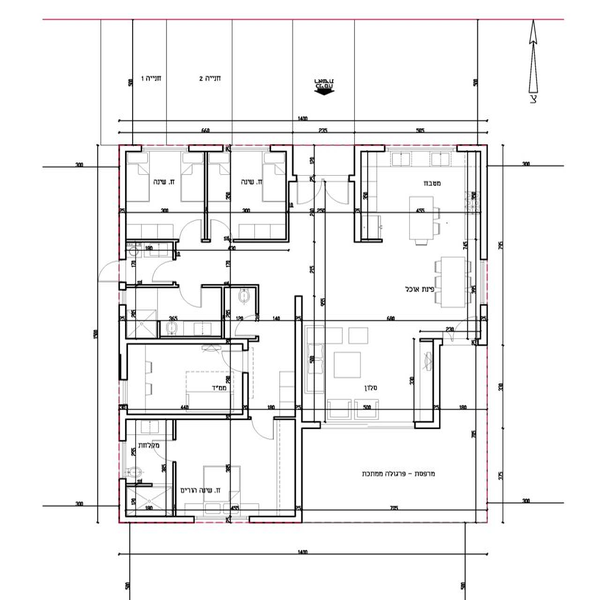door: (293, 174, 353, 214), (249, 414, 286, 443), (177, 280, 207, 307), (152, 435, 178, 464), (178, 216, 202, 246), (151, 259, 178, 285), (208, 215, 232, 244), (222, 352, 253, 372), (233, 310, 257, 334)
room: (357, 138, 492, 345), (114, 414, 307, 522), (291, 298, 445, 431), (118, 138, 297, 244), (118, 282, 256, 419)
wall: (293, 295, 304, 523), (477, 142, 491, 261), (116, 138, 128, 264), (123, 412, 248, 422), (433, 341, 443, 429), (354, 145, 362, 240), (127, 338, 252, 344), (119, 300, 128, 378), (121, 517, 196, 524), (117, 404, 128, 443), (253, 517, 300, 526), (188, 143, 224, 154), (119, 480, 127, 523), (242, 371, 250, 414), (286, 147, 294, 179)
window: (389, 144, 453, 154), (116, 446, 129, 480), (143, 144, 187, 154), (231, 142, 268, 151)
